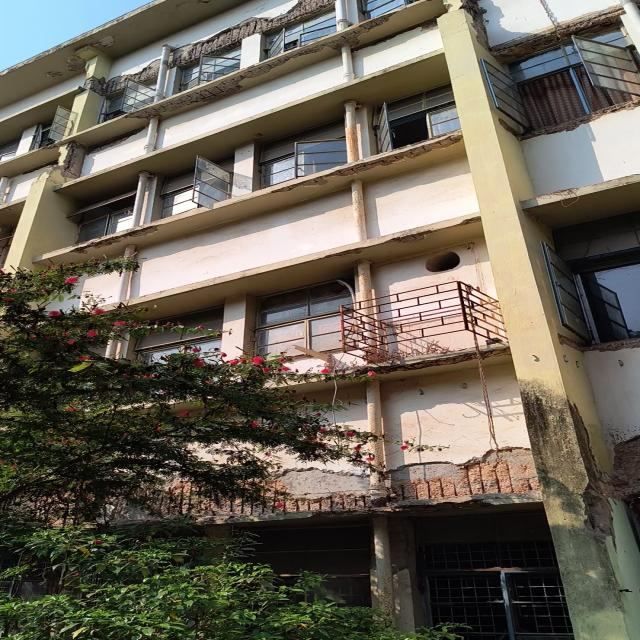Scaling: (46, 36, 114, 79), (612, 435, 639, 501)
Spalling: (140, 448, 541, 524), (126, 13, 392, 119), (272, 130, 461, 194), (0, 0, 151, 71), (171, 0, 332, 66), (460, 0, 621, 61), (291, 214, 479, 264), (569, 403, 613, 538), (519, 99, 639, 140), (353, 3, 446, 51), (59, 130, 139, 184), (364, 349, 477, 381), (79, 58, 160, 96), (69, 224, 158, 253), (580, 339, 639, 352), (136, 61, 158, 81), (480, 347, 510, 360), (292, 380, 328, 389), (338, 371, 364, 383)
pollution -moisture induced blackening: (520, 378, 628, 640), (0, 0, 169, 77), (612, 435, 639, 501)
